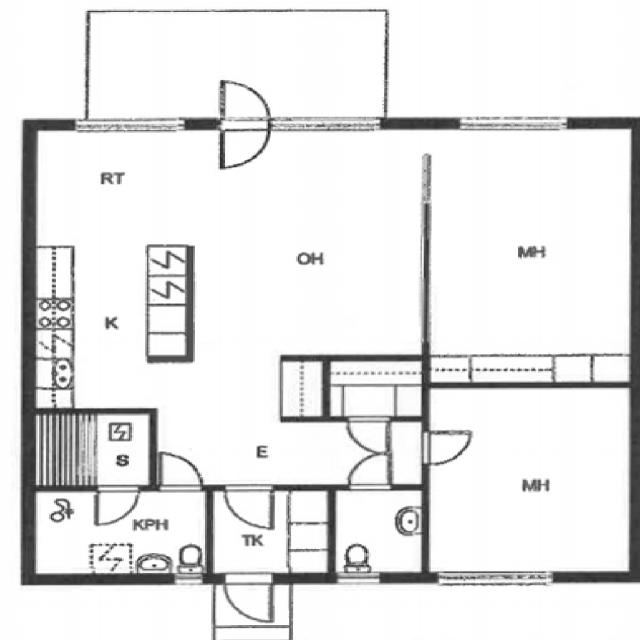door: (219, 81, 270, 129), (219, 120, 270, 168), (225, 574, 272, 620), (225, 485, 274, 528), (347, 416, 391, 456), (348, 451, 391, 490), (160, 451, 202, 490), (422, 431, 471, 464), (97, 485, 139, 523)
